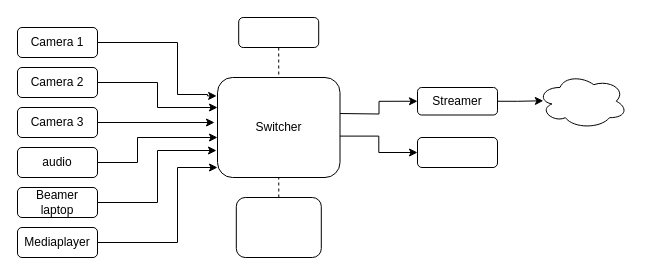
Some shapes in this 645 by 275 pixel diagram are drawn without their labels. The box of each missing label's shape, as (x1, y1, x2, y2) in pixels:
Beamer: (416, 136, 498, 168)
Bediening (Laptop + toetsenbord): (235, 196, 321, 258)
Monitor: (238, 16, 319, 48)
Youtube: (536, 73, 628, 129)
